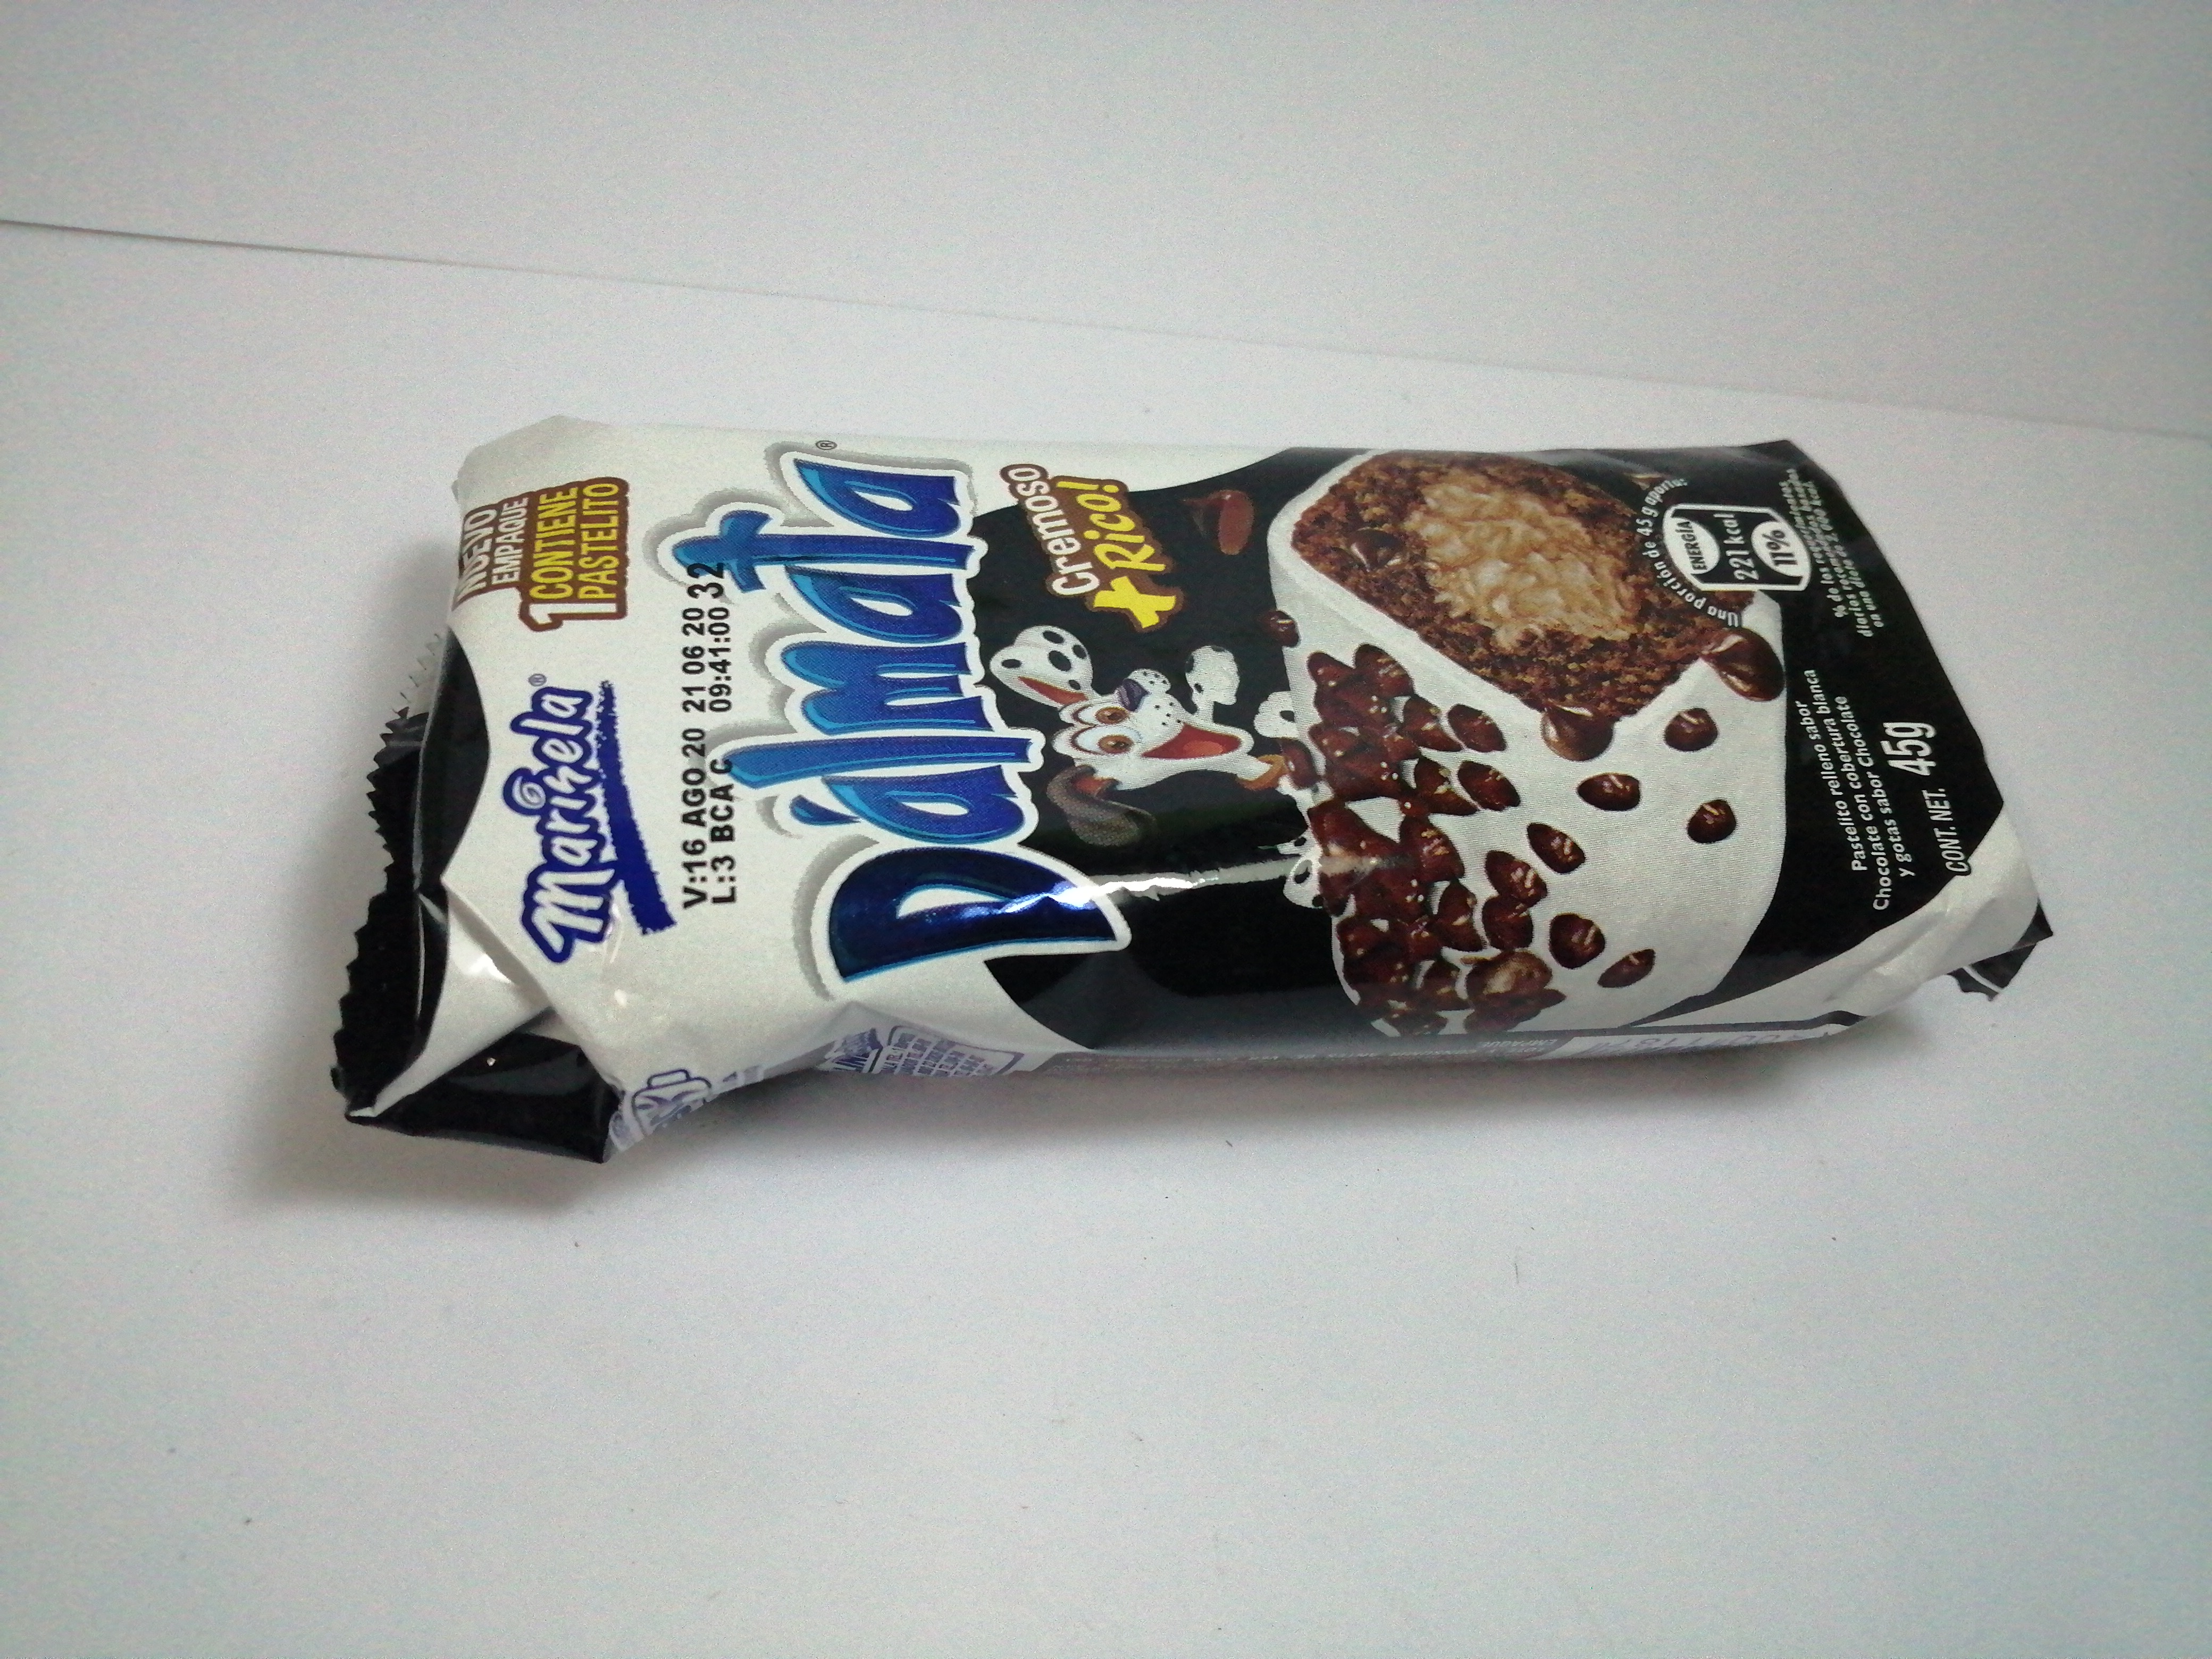dalmata: (307, 392, 2038, 1166)
